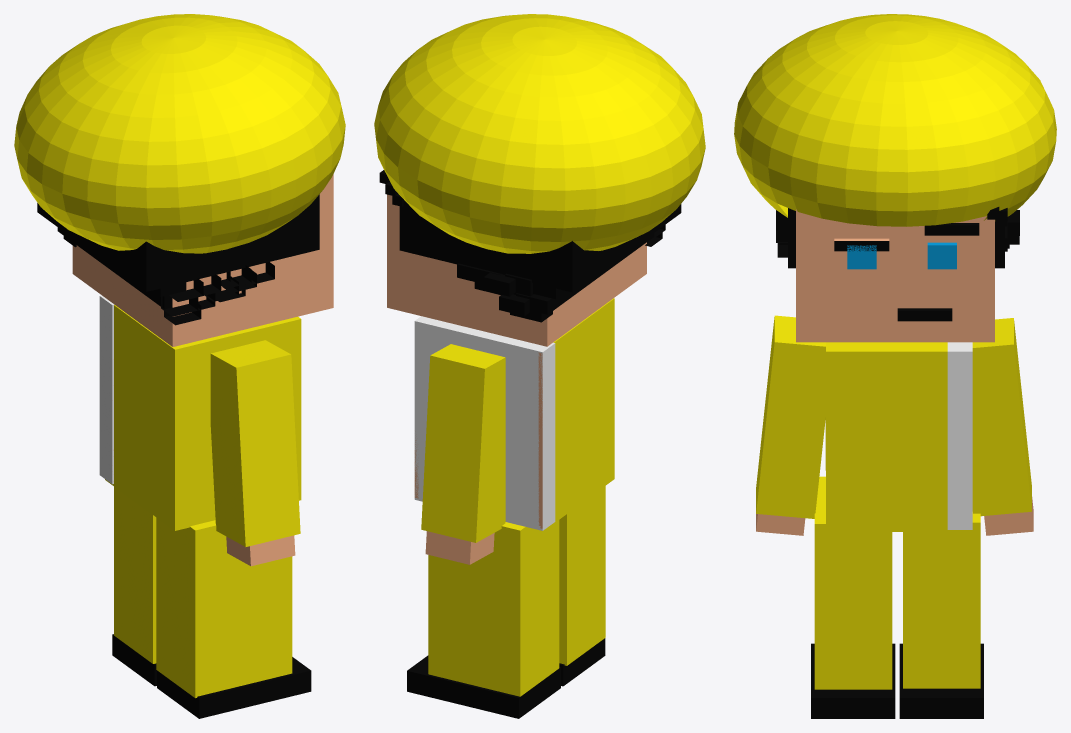
Rendered from Personaje4.fbx.
3 views of the same model, side by side, from view 1: azimuth 30°, elevation 25°; view 2: azimuth 150°, elevation 25°; view 3: azimuth 270°, elevation 25° (orthographic).
Visible parts, largest first — view 1: Personaje; view 2: Personaje; view 3: Personaje.
Part boxes in pixels (box(x1,y1,x2,y2)): Personaje: box(14, 14, 345, 718); Personaje: box(374, 14, 705, 718); Personaje: box(734, 14, 1056, 718).
Bounding box in the file's own units: 55.57 × 119 × 54.04.
